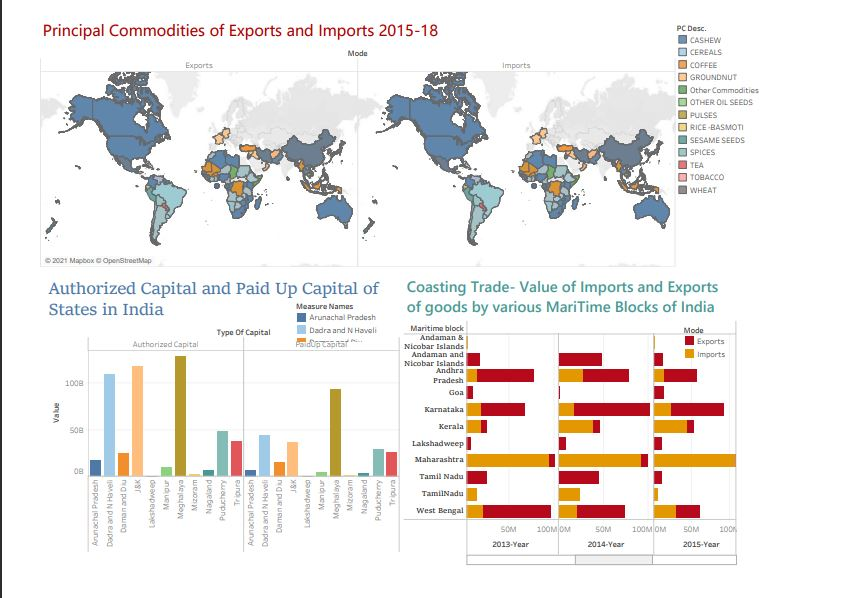

The dashboard page shown, as its layout file describes it:
{"tool":"tableau","page":{"name":"Dashboard 1","canvas":[1200,900],"ordinal":0},"visuals":[{"type":"worksheet","title":"Principal Commodities of Exports and Imports 2015-18","mark":"Multipolygon","cols":["Mode"],"box":[1.2,1.1,1012.8,399.4]},{"type":"worksheet","title":"Principal Commodities of Exports and Imports 2015-18","mark":"Multipolygon","cols":["Mode"],"param":"[federated.0z8cd7j1e8wnak16ezkui09p7kmw].[none:PC_Desc.:nk]","box":[1015,7.9,168,324]},{"type":"worksheet","title":"Coasting Trade- Value of Imports and Exports of goods by various MariTime Blocks of India 1","mark":"Bar","rows":["Maritime block"],"cols":["2009-Year","2010-Year","2011-Year","2012-Year","2013-Year","2014-Year","2015-Year","2016-Year","2017-Year","2018-Year"],"box":[581,407.2,530,468]},{"type":"worksheet","title":"Authorized Capital and Paid Up Capital of States in India","mark":"Automatic","cols":["Type Of Capital"],"box":[10,416.2,564,437.6]},{"type":"worksheet","title":"Authorized Capital and Paid Up Capital of States in India","mark":"Automatic","cols":["Type Of Capital"],"param":"[federated.0z2mws10c0rhwq12ugtkc12z3zit].[:Measure Names]","box":[408,451.1,168,66.4]},{"type":"worksheet","title":"Coasting Trade- Value of Imports and Exports of goods by various MariTime Blocks of India 1","mark":"Bar","rows":["Maritime block"],"cols":["2009-Year","2010-Year","2011-Year","2012-Year","2013-Year","2014-Year","2015-Year","2016-Year","2017-Year","2018-Year"],"param":"[federated.11rlsng18q80us11rmncl0ffvrce].[none:Mode:nk]","box":[1026,489.4,74,70.9]}]}

Visuals, with their boxes on the page's 1200x900 design canvas (x1, y1, x2, y2). These are canvas units, not pixel positions in the 863x598 screenshot, which may show the page scaled, cropped or inside an application window:
"Principal Commodities of Exports and Imports 2015-18" worksheet (Multipolygon marks): <bbox>1, 1, 1014, 400</bbox>
"Principal Commodities of Exports and Imports 2015-18" worksheet (Multipolygon marks): <bbox>1015, 8, 1183, 332</bbox>
"Coasting Trade- Value of Imports and Exports of goods by various MariTime Blocks of India 1" worksheet (Bar marks): <bbox>581, 407, 1111, 875</bbox>
"Authorized Capital and Paid Up Capital of States in India" worksheet: <bbox>10, 416, 574, 854</bbox>
"Authorized Capital and Paid Up Capital of States in India" worksheet: <bbox>408, 451, 576, 518</bbox>
"Coasting Trade- Value of Imports and Exports of goods by various MariTime Blocks of India 1" worksheet (Bar marks): <bbox>1026, 489, 1100, 560</bbox>
